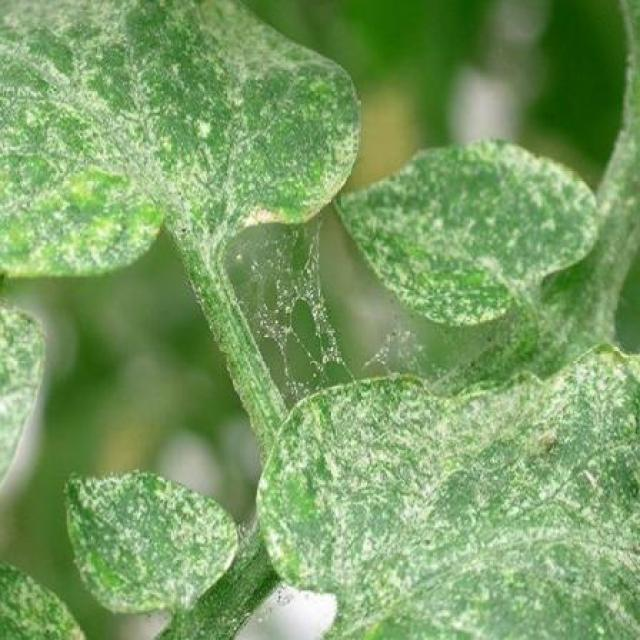Spider Mites: (253, 337, 640, 640), (0, 0, 366, 277), (334, 132, 602, 328), (62, 468, 244, 619)
